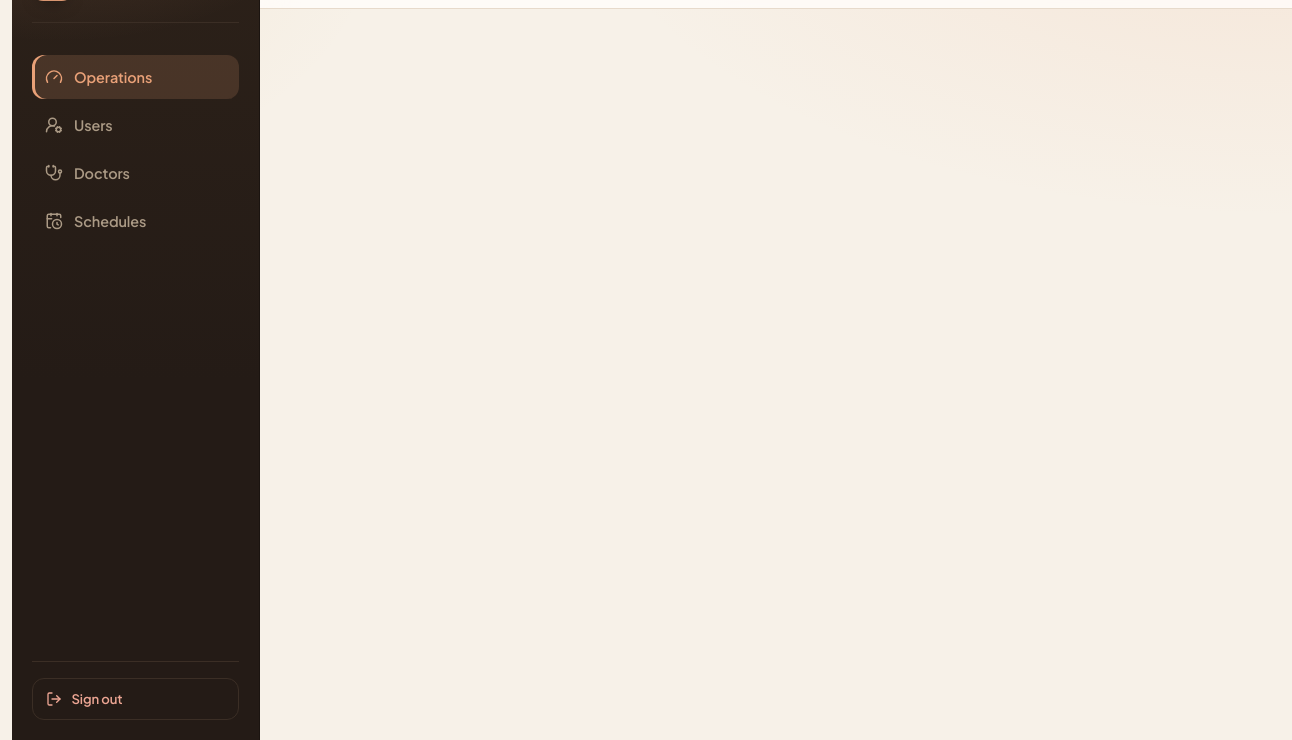
Scenario: responsive clinical layout › navigates to the selected destination from the sidebar
This screenshot has width=1292, height=740.
Click the link "Users": (79, 125) [45,116,113,134]
(page scrolled)
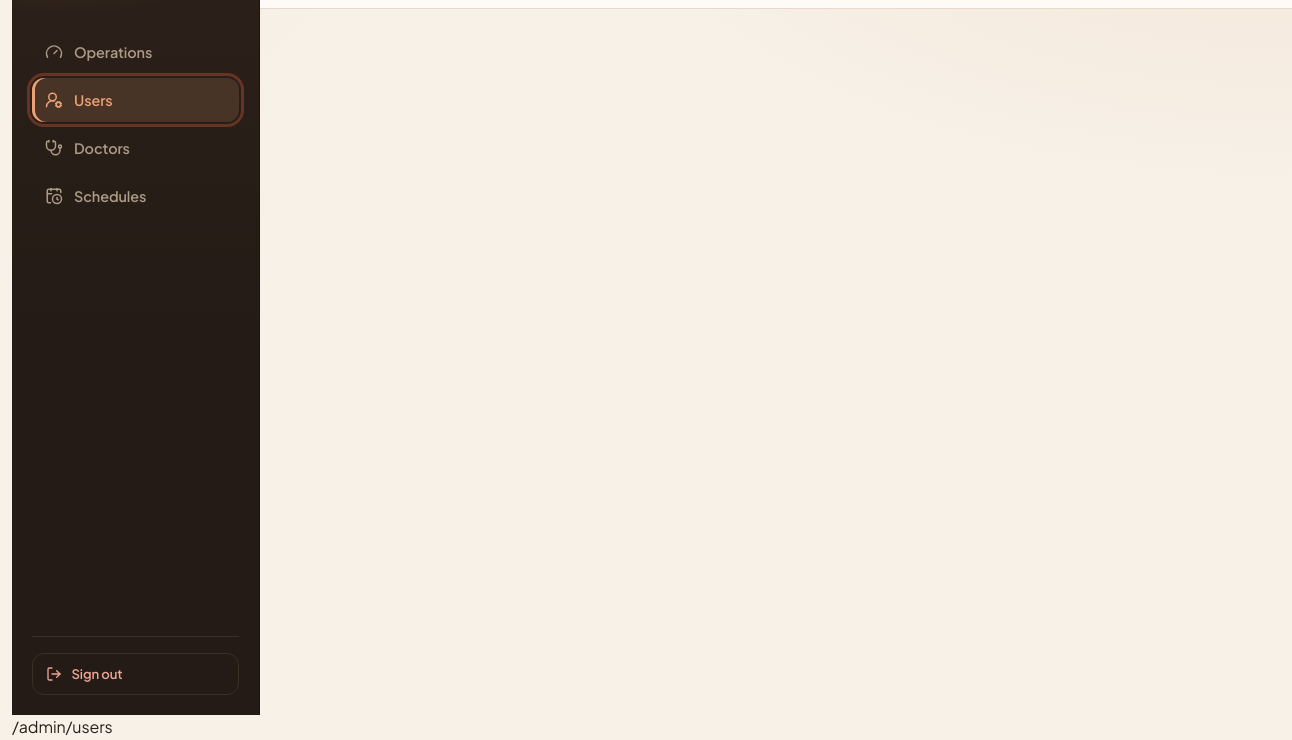
Expected: the text with test id "location" reads "/admin/users", [12,716,113,737]
